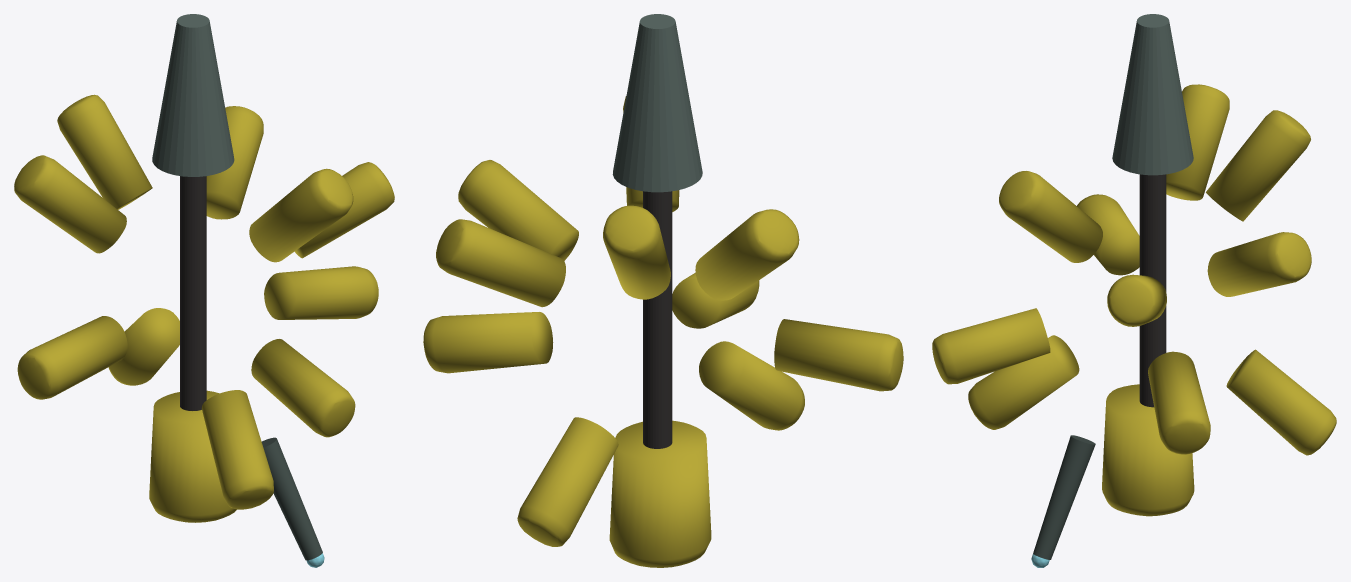
Rendered from BlockOut.gltf.
The picture shows the model from 3 angles, left to right: view 1: azimuth 30°, elevation 25°; view 2: azimuth 150°, elevation 25°; view 3: azimuth 270°, elevation 25°; orthographic projection. The views are drawn at different scales.
Parts seen in each view (by area): view 1: Cylinder.026-col.002, Cylinder.026-col.001, Cylinder.026-col, SmallIslands-col.006, SmallIslands-col.002, SmallIslands-col.005, SmallIslands-col.004, SmallIslands-col.001, SmallIslands-col, SmallIslands-col.007, SmallIslands-col.008, SmallIslands-col.009 (+2 smaller); view 2: Cylinder.026-col.001, Cylinder.026-col.002, SmallIslands-col.009, SmallIslands-col.001, SmallIslands-col.008, SmallIslands-col, SmallIslands-col.003, Cylinder.026-col, SmallIslands-col.006, SmallIslands-col.002, SmallIslands-col.005, SmallIslands-col.004; view 3: Cylinder.026-col.002, Cylinder.026-col.001, SmallIslands-col.004, SmallIslands-col.009, SmallIslands-col.005, SmallIslands-col.007, SmallIslands-col.006, SmallIslands-col.008, SmallIslands-col, Cylinder.026-col, SmallIslands-col.002, SmallIslands-col.001 (+2 smaller).
Boxes of the visible parts, x1,y1,x2,y2 form: Cylinder.026-col.002: [152, 14, 234, 176]; Cylinder.026-col.001: [149, 390, 236, 522]; Cylinder.026-col: [180, 176, 206, 410]; SmallIslands-col.006: [201, 390, 273, 509]; SmallIslands-col.002: [14, 155, 126, 253]; SmallIslands-col.005: [57, 94, 152, 209]; SmallIslands-col.004: [251, 339, 355, 437]; SmallIslands-col.001: [17, 316, 127, 399]; SmallIslands-col: [264, 266, 378, 319]; SmallIslands-col.007: [249, 168, 353, 262]; SmallIslands-col.008: [206, 106, 263, 219]; SmallIslands-col.009: [108, 308, 179, 385]; Cylinder.026-col.001: [609, 420, 711, 567]; Cylinder.026-col.002: [612, 14, 702, 192]; SmallIslands-col.009: [517, 417, 618, 546]; SmallIslands-col.001: [774, 319, 903, 391]; SmallIslands-col.008: [436, 219, 565, 307]; SmallIslands-col: [423, 312, 553, 373]; SmallIslands-col.003: [458, 160, 578, 260]; Cylinder.026-col: [643, 191, 672, 448]; SmallIslands-col.006: [699, 341, 804, 430]; SmallIslands-col.002: [695, 209, 799, 300]; SmallIslands-col.005: [603, 205, 670, 299]; SmallIslands-col.004: [672, 272, 759, 328]; Cylinder.026-col.002: [1112, 14, 1193, 175]; Cylinder.026-col.001: [1102, 384, 1194, 516]; SmallIslands-col.004: [932, 308, 1050, 384]; SmallIslands-col.009: [1226, 349, 1336, 455]; SmallIslands-col.005: [1206, 110, 1310, 221]; SmallIslands-col.007: [999, 171, 1102, 262]; SmallIslands-col.006: [968, 335, 1079, 429]; SmallIslands-col.008: [1207, 232, 1311, 296]; SmallIslands-col: [1148, 351, 1210, 454]; Cylinder.026-col: [1139, 174, 1166, 407]; SmallIslands-col.002: [1166, 84, 1229, 200]; SmallIslands-col.001: [1077, 194, 1139, 275].
Bounding box in the file's own units: 201 × 257 × 183.
Materials: 1 (1 with a texture image).
